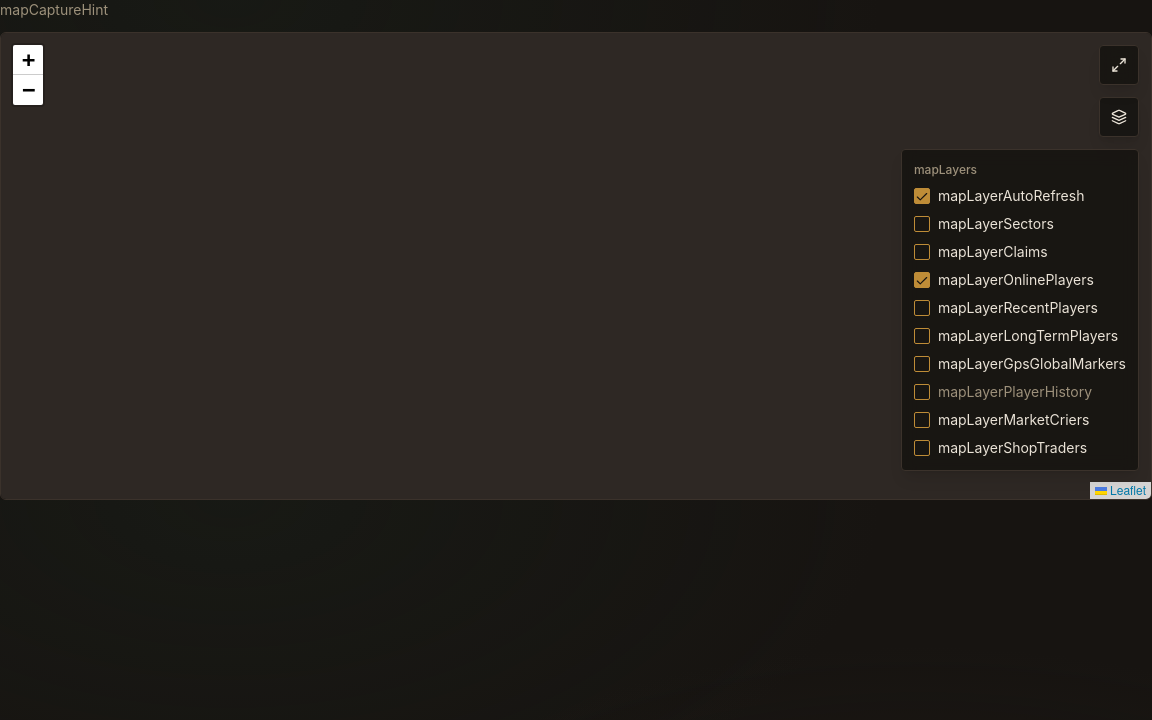
Test case: AdminMapTab › opens shop-traders offers within the browser fullscreen element
The image size is (1152, 720).
Click the button named "mapExpandWindow": (1119, 65) [1099, 45, 1139, 85]
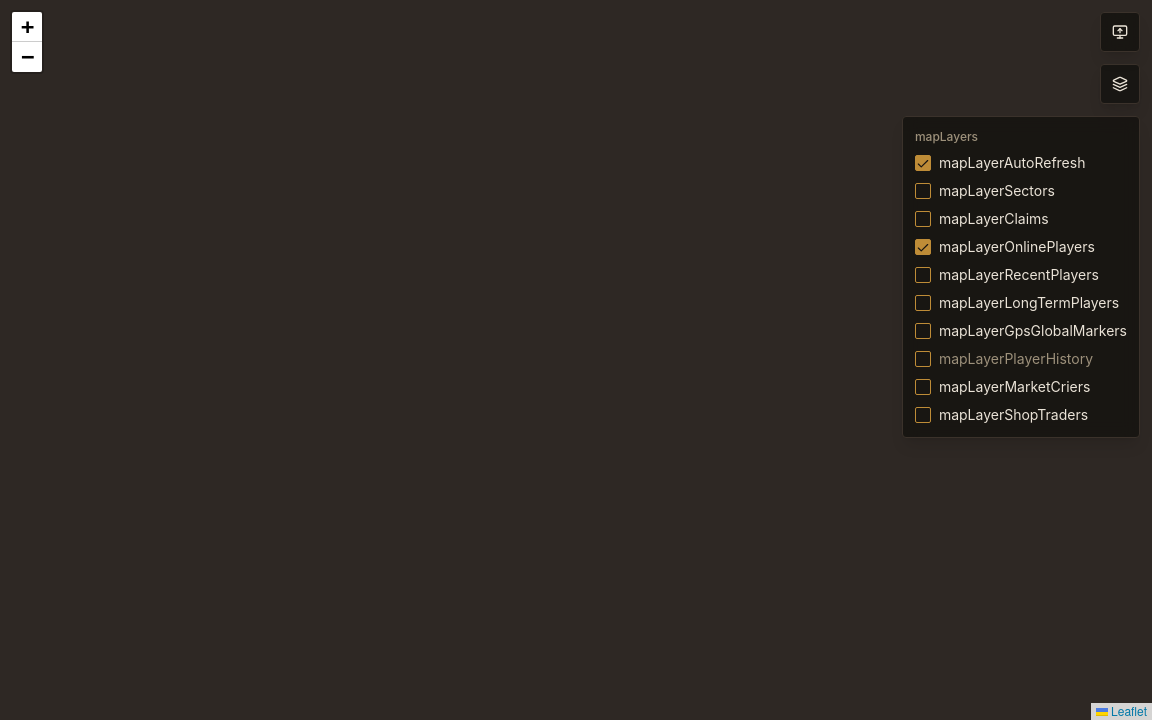
Click the button named "mapBrowserFullscreen": (1120, 32) [1100, 12, 1140, 52]
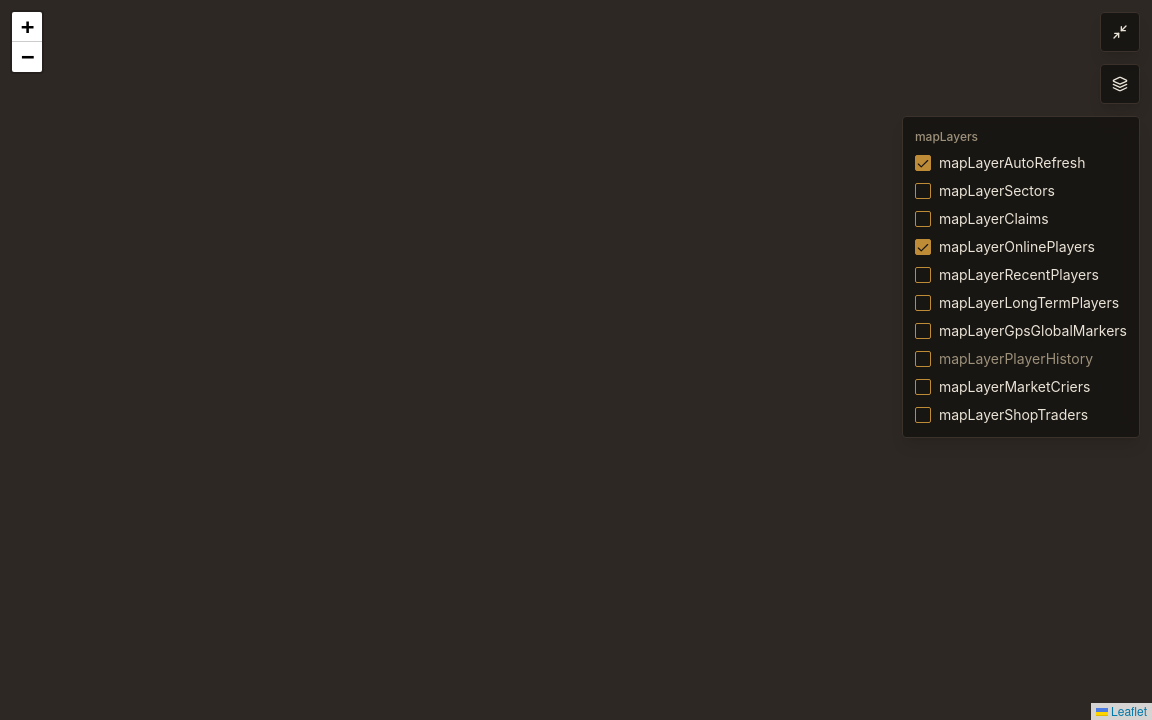
Now the button named "mapExitFullscreen" is shown, box [1100, 12, 1140, 52]
Click the checkbox named "mapLayerShopTraders" next to "mapLayerShopTraders": (923, 415) [915, 407, 931, 423]
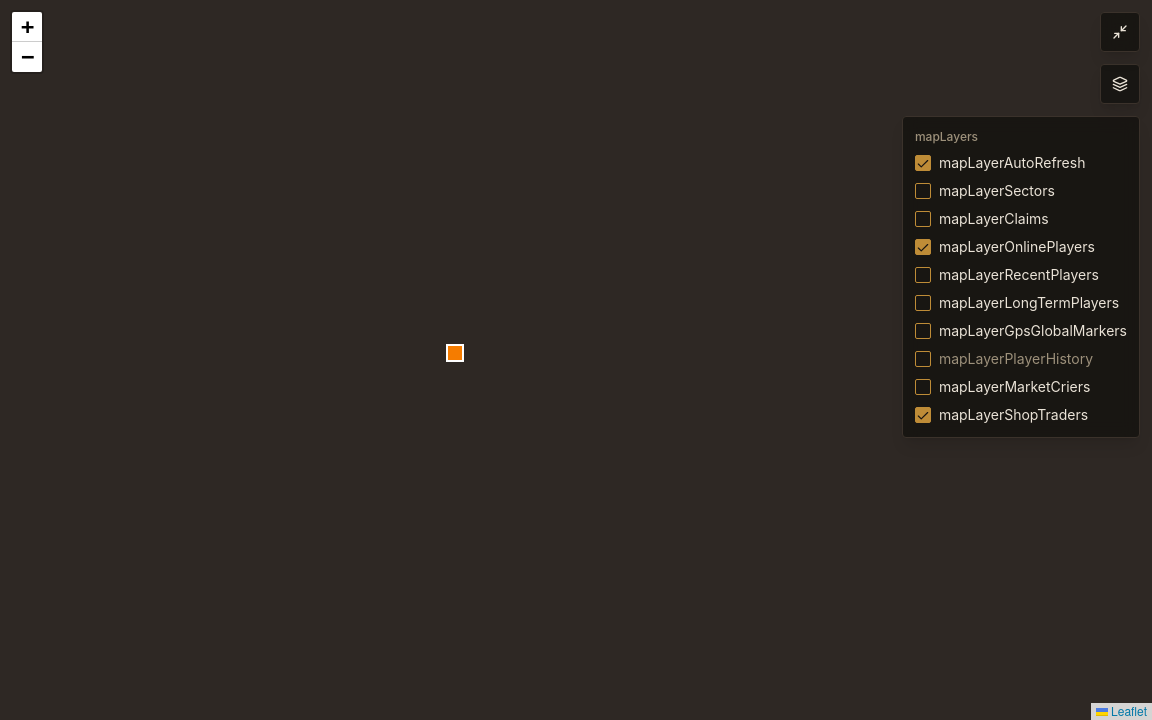
Click the button named "Shop Trader": (455, 353) [446, 344, 464, 362]
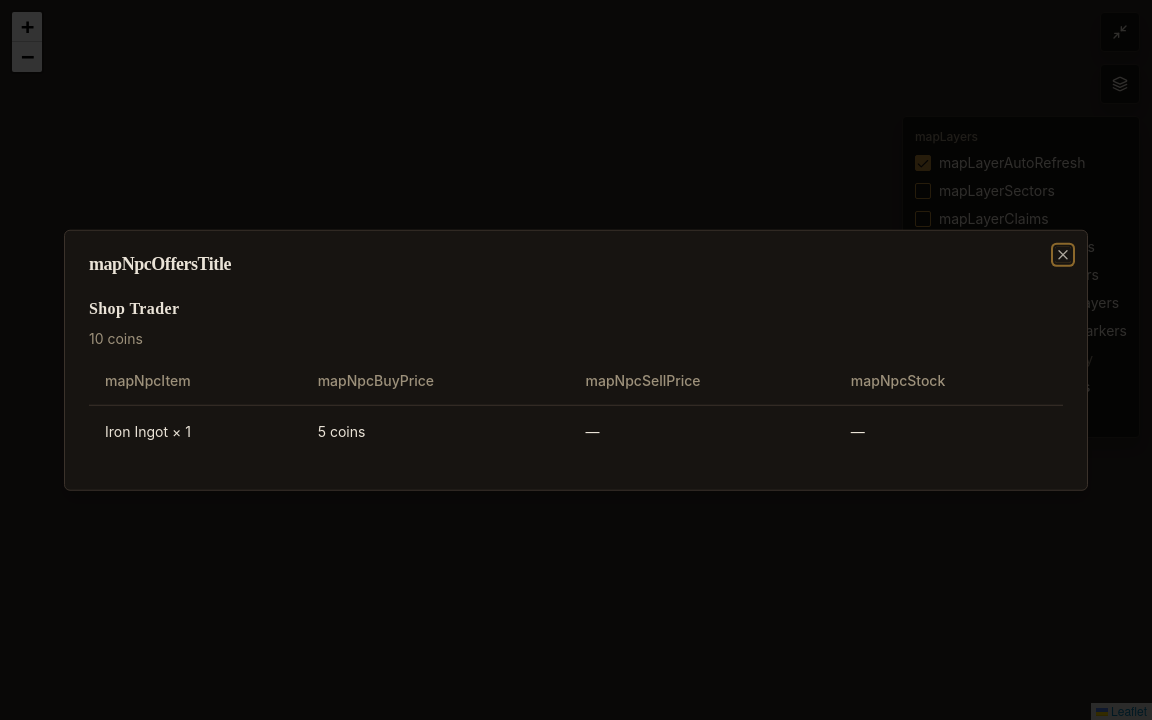
Now the dialog "mapNpcOffersTitle" shows "Iron Ingot", box [105, 422, 168, 439]
Now the dialog "mapNpcOffersTitle" shows "10 coins", box [89, 330, 143, 347]
